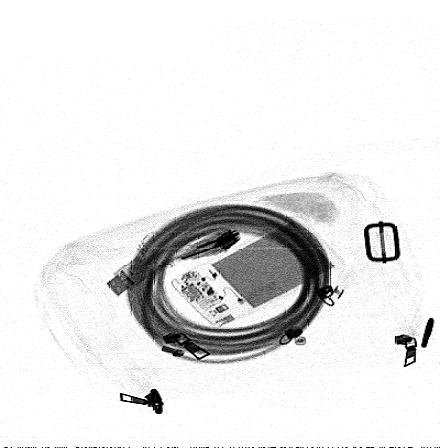Powerbank: (170, 214, 345, 327)
